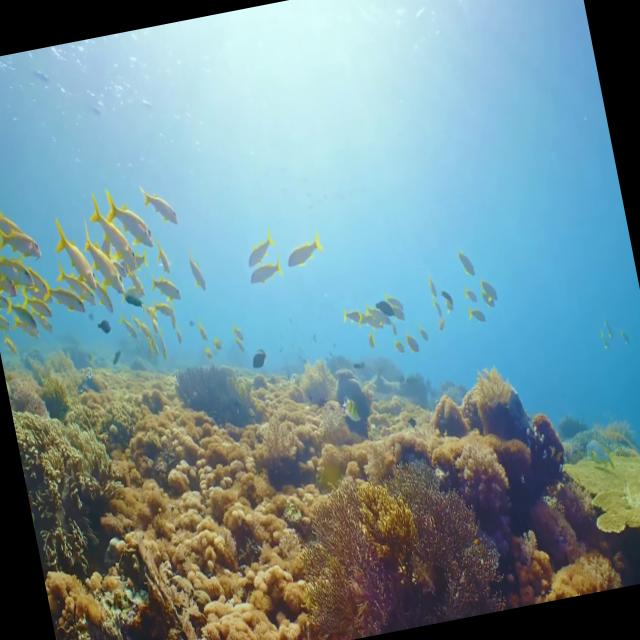fish: (85, 192, 141, 284), (50, 220, 100, 298), (102, 186, 156, 256), (41, 273, 89, 330), (136, 175, 182, 234), (52, 260, 99, 317), (0, 215, 45, 271), (284, 234, 328, 272), (246, 258, 288, 286)
